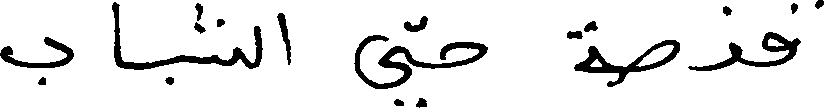ا: (276, 10, 294, 64), (109, 0, 122, 69)
ب: (0, 34, 74, 84), (161, 53, 186, 86)
ة: (560, 19, 616, 89)
ح: (436, 40, 486, 69)
ذ: (689, 3, 744, 71)
ش: (192, 1, 242, 66)
ص: (628, 38, 678, 73)
ق: (758, 0, 822, 68)
ل: (247, 1, 262, 70)
ي: (352, 32, 424, 106)
